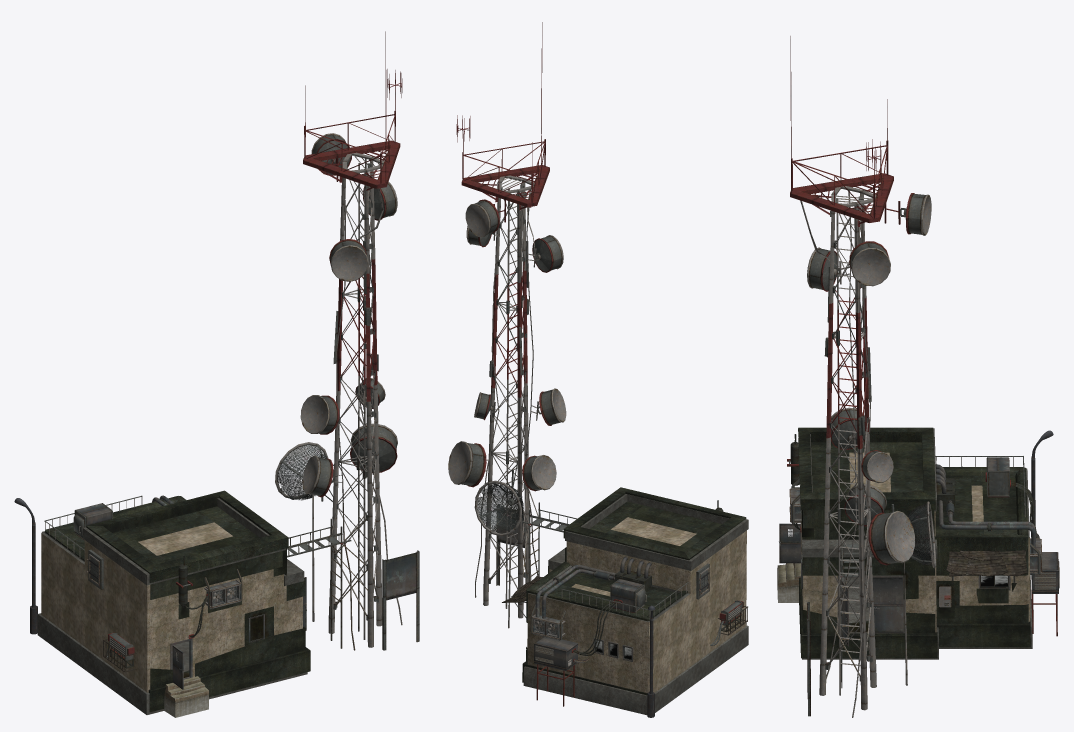
File: Radio Tower.FBX
3 renders of one model, left to right at view 1: azimuth 30°, elevation 25°; view 2: azimuth 150°, elevation 25°; view 3: azimuth 270°, elevation 25°, orthographic. The views are drawn at different scales.
Parts seen in each view (by area): view 1: Mesh28, Mesh34, Mesh27, Mesh31, Mesh25, Mesh33, 8417507c, 9c40c524, 3a5244a0; view 2: Mesh28, Mesh27, Mesh34, Mesh31, Mesh25, Mesh33, 3a5244a0, 9c40c524, 037083ef; view 3: Mesh28, Mesh34, Mesh25, Mesh27, Mesh31, 037083ef, 3a5244a0, Mesh33, 8417507c.
Boxes of the visible parts, x1,y1,x2,y2 form: Mesh28: (44,31,419,660); Mesh34: (45,490,310,712); Mesh27: (41,522,302,692); Mesh31: (37,498,307,714); Mesh25: (76,495,416,689); Mesh33: (91,444,326,660); 8417507c: (164,676,208,717); 9c40c524: (14,498,98,634); 3a5244a0: (110,555,306,668); Mesh28: (448,22,743,706); Mesh27: (527,517,746,692); Mesh34: (522,487,746,695); Mesh31: (523,494,748,715); Mesh25: (498,506,651,670); Mesh33: (477,483,740,634); 3a5244a0: (572,500,741,655); 9c40c524: (553,572,709,717); 037083ef: (502,575,747,635); Mesh28: (787,36,1059,717); Mesh34: (798,427,1030,658); Mesh25: (779,457,1058,646); Mesh27: (801,452,1030,632); Mesh31: (801,428,1032,659); 037083ef: (946,550,1027,576); 3a5244a0: (790,434,1036,624); Mesh33: (788,504,935,565); 8417507c: (777,563,800,602).
Bounding box in the file's own units: 0.8669 × 1.75 × 0.6546.
